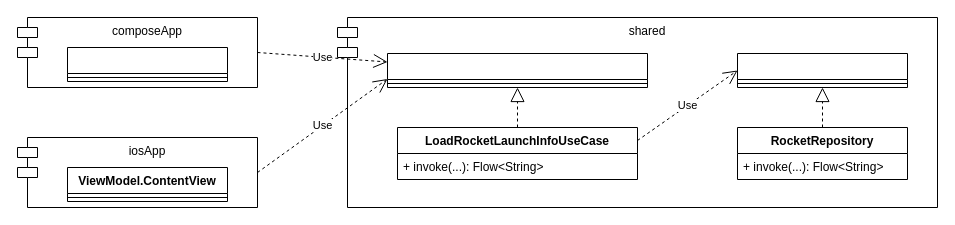
The diagram is 955 pixels wide and 225 high, and some of its shapes have lost their labels. The shapes that lost their labels are listed below. From the top down, each one's centre as x and y in pixels, then its label:
At point 147,64: "RocketLaunchViewModel".
At point 517,70: "LoadRocketLaunchInfoUseCaseContract".
At point 822,70: "RocketRepositoryContract".
